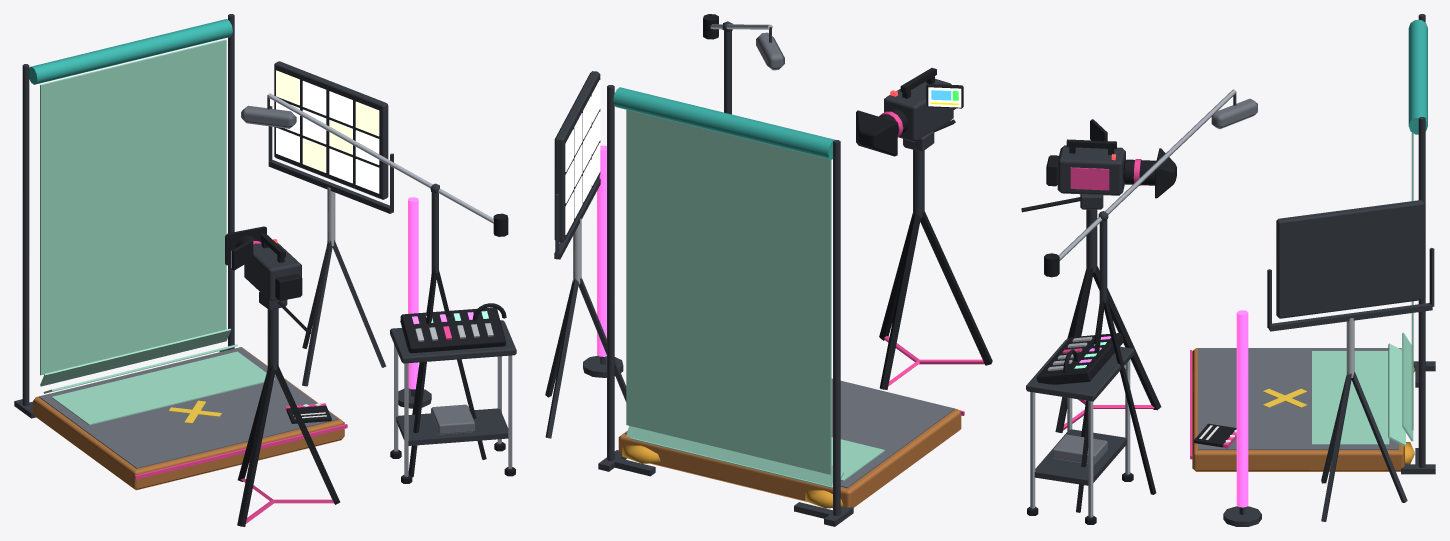
Rendered from station_buffer_2.glb.
3 views of the same model, side by side, from view 1: azimuth 30°, elevation 25°; view 2: azimuth 150°, elevation 25°; view 3: azimuth 270°, elevation 25° (orthographic). The views are drawn at different scales.
Visible parts, largest first — view 1: station_buffer_2; view 2: station_buffer_2; view 3: station_buffer_2.
Boxes of the visible parts, box(x1,y1,x2,y2) form: station_buffer_2: box(14, 14, 516, 526); station_buffer_2: box(545, 14, 992, 526); station_buffer_2: box(1021, 14, 1435, 526).
Size of the model in its own units: 1.98 by 2.03 by 2.15.
